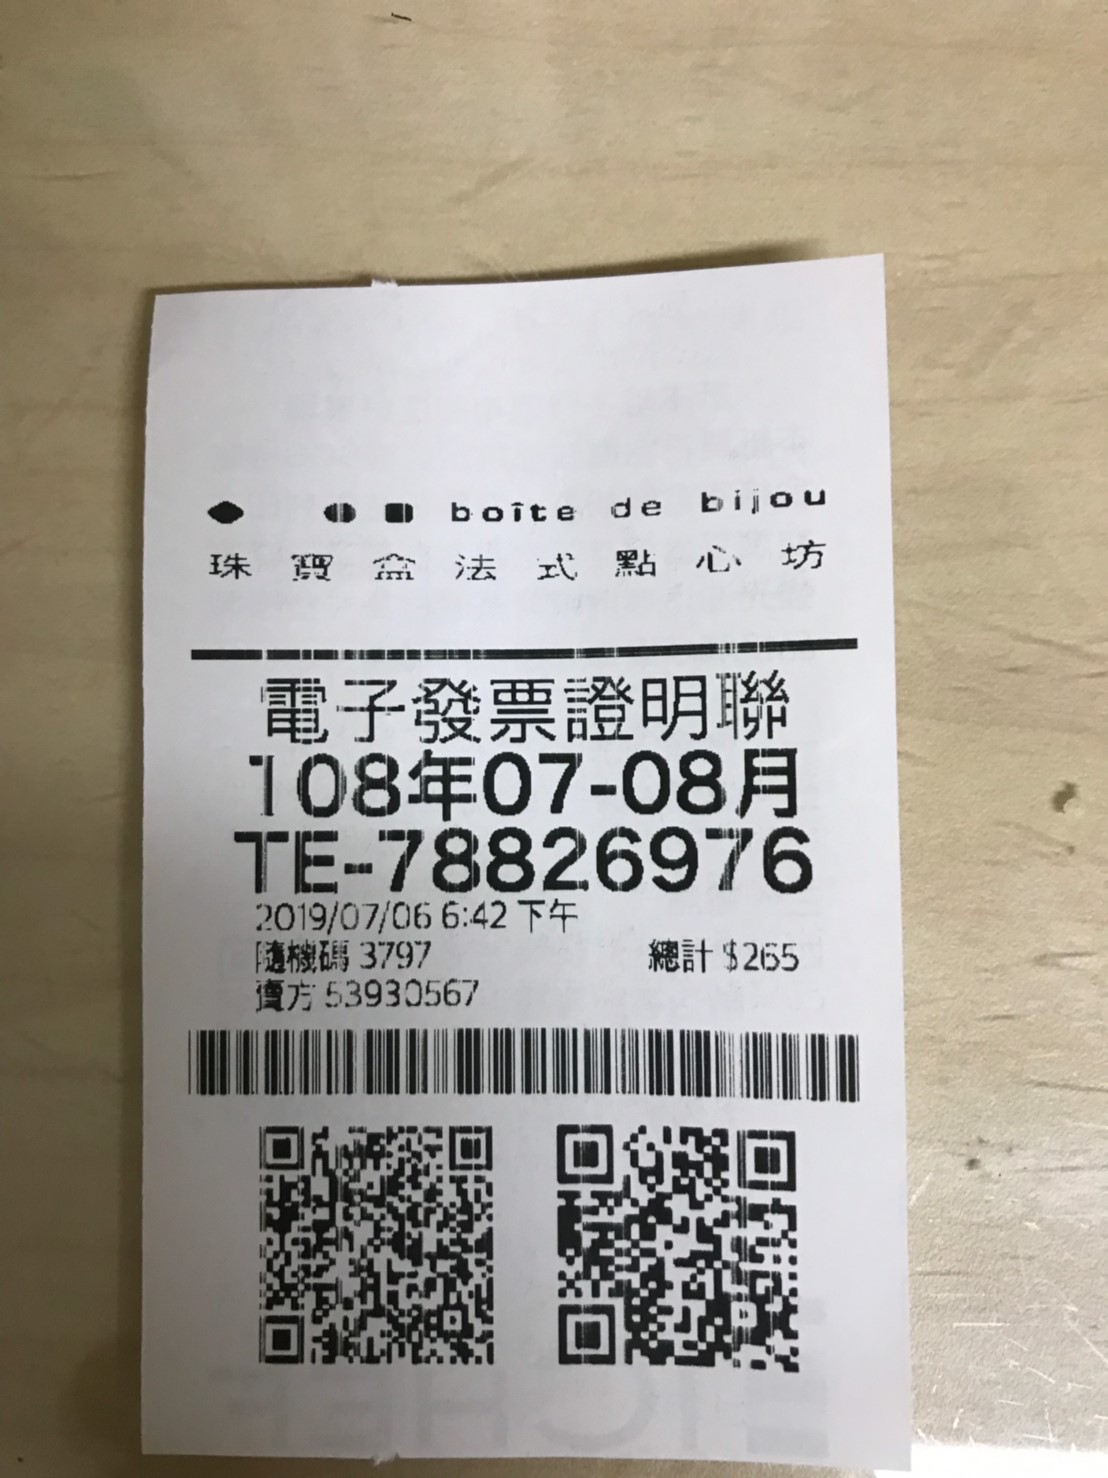Date_New: (248, 742, 800, 824)
Number_New: (376, 823, 812, 894)
